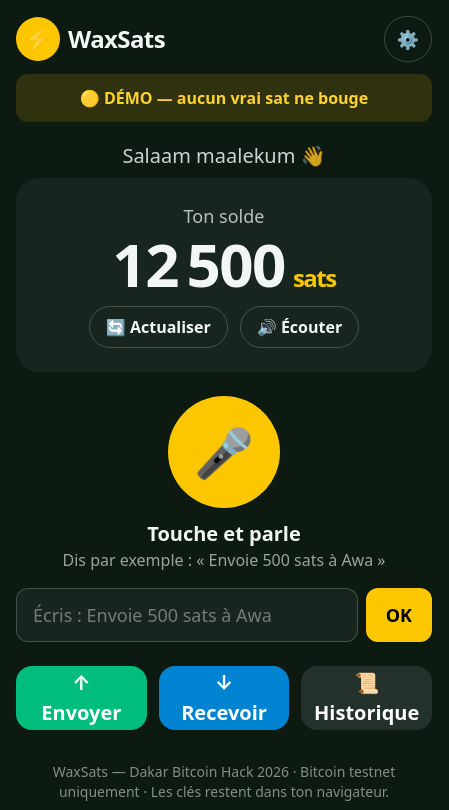
WaxSats app — demo mode flows › typed French command routes to the send screen prefilled
The image size is (449, 810).
expect the element with test id "balance" is shown: met, box left=112, top=223, right=336, bottom=305
Type "Envoie 500 sats à Awa" into the field named "Écris ta commande en français" at (187, 615), box left=16, top=588, right=358, bottom=642
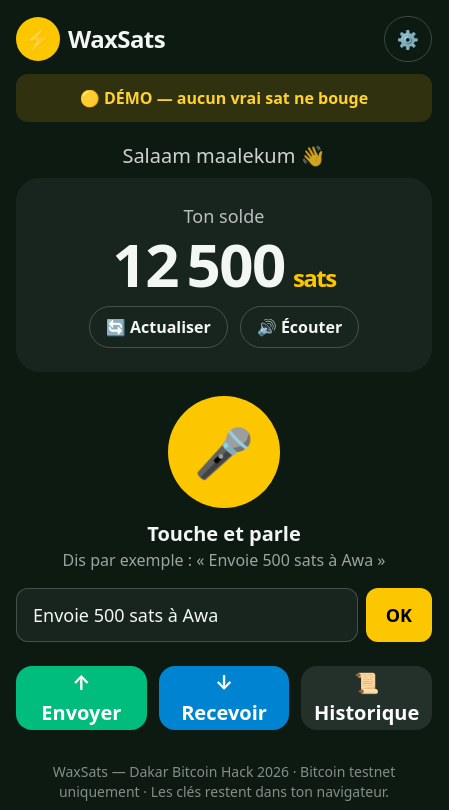
Submit the form named "Écris ta commande en français", box left=16, top=588, right=432, bottom=642
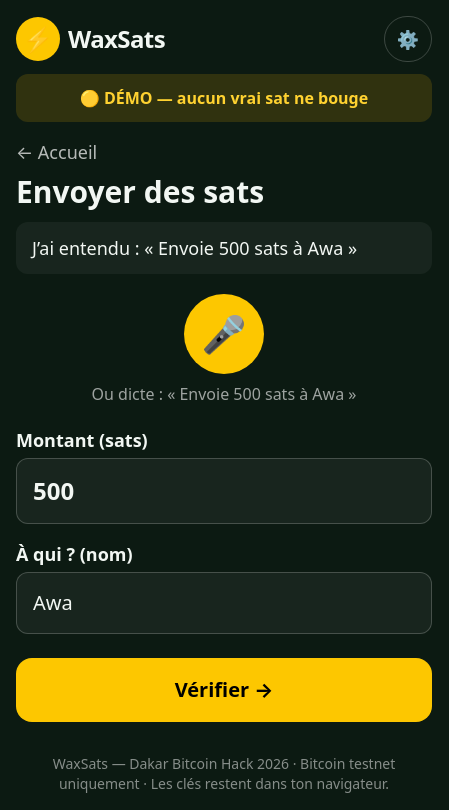
expect the field labelled "Montant (sats)" holds "500": met, box left=16, top=458, right=432, bottom=524
expect the field labelled "À qui ? (nom)" holds "Awa": met, box left=16, top=572, right=432, bottom=634
